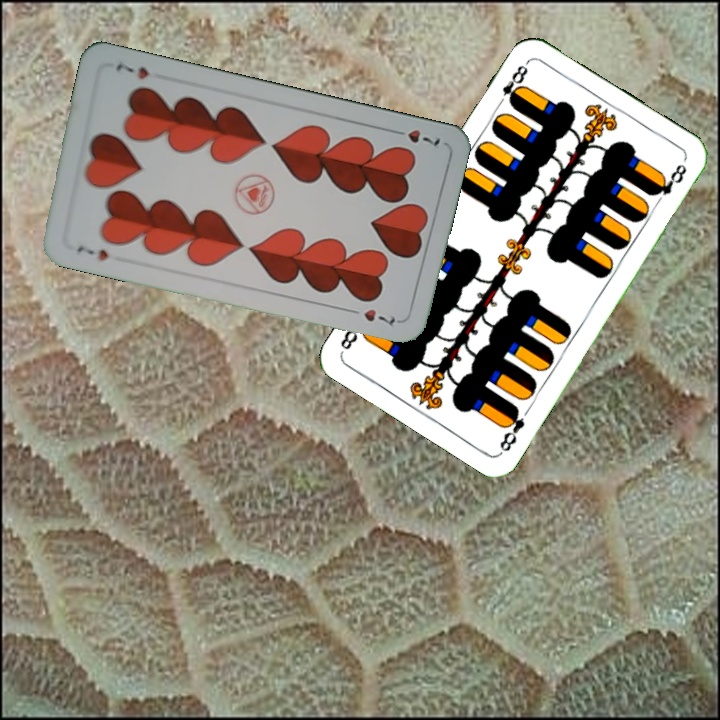E8: (493, 58, 531, 110), (495, 402, 528, 456)
H7: (386, 124, 444, 151), (73, 242, 111, 264)
